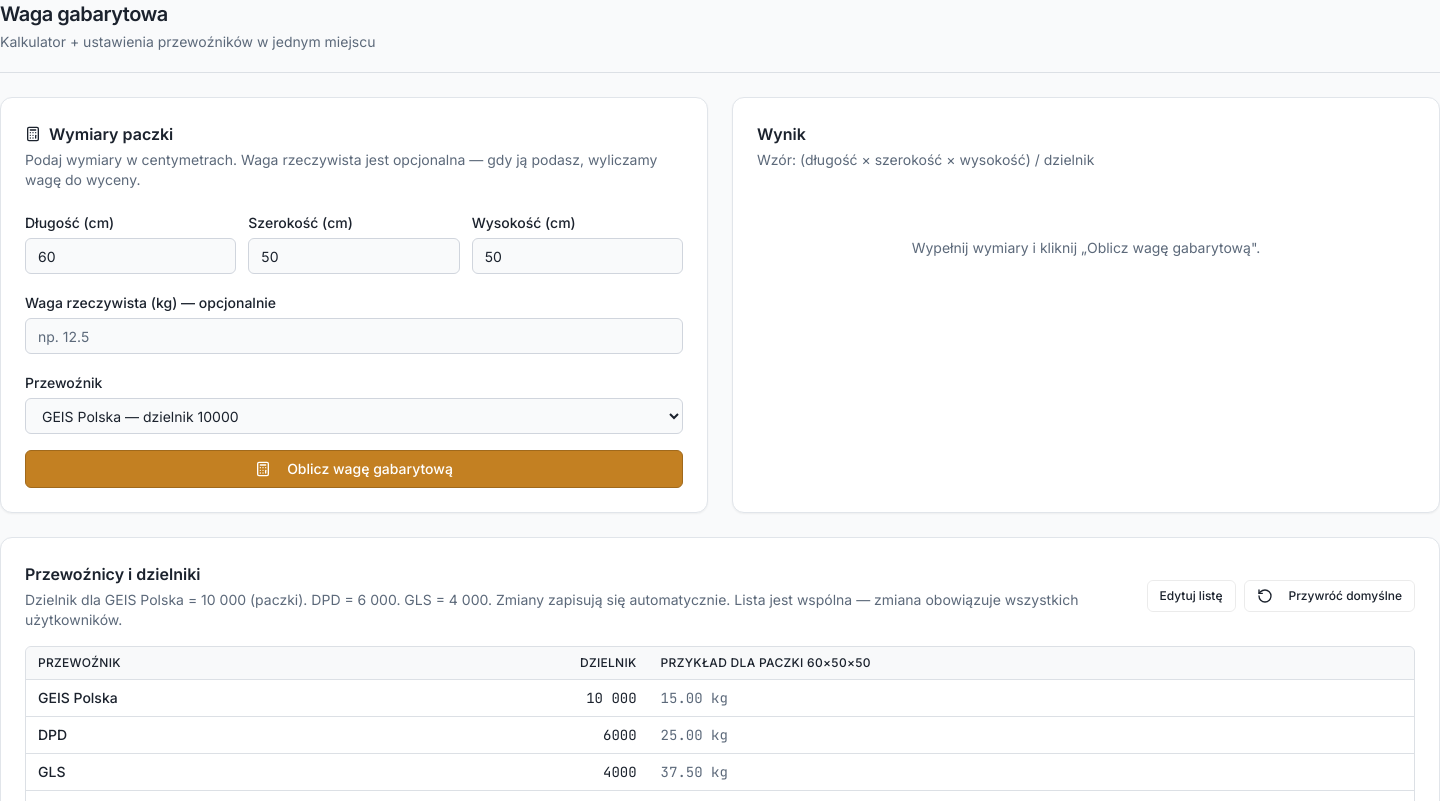
widok wagi gabarytowej — kalkulator wolumetryczny › niepoprawne wymiary dają komunikat zamiast wyniku
Expected: the button with test id "button-edycja-przewoznikow" is shown, top-left (1146, 580), bottom-right (1236, 612)
Replace the text in the number field with test id "input-dlugosc" with "0": [131, 256] box top-left (25, 238), bottom-right (236, 274)
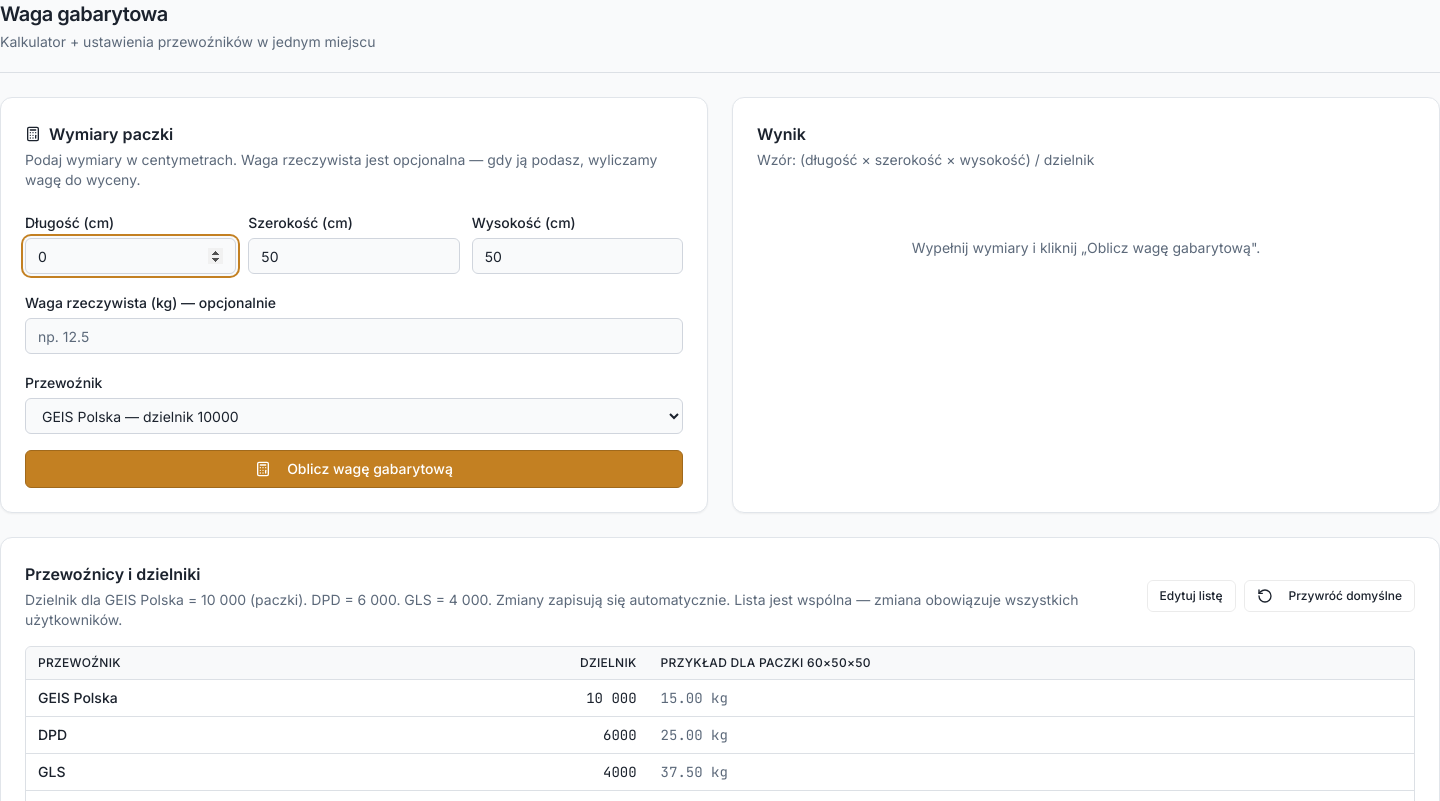
Click the button with test id "button-oblicz": [354, 469] box top-left (25, 450), bottom-right (683, 488)
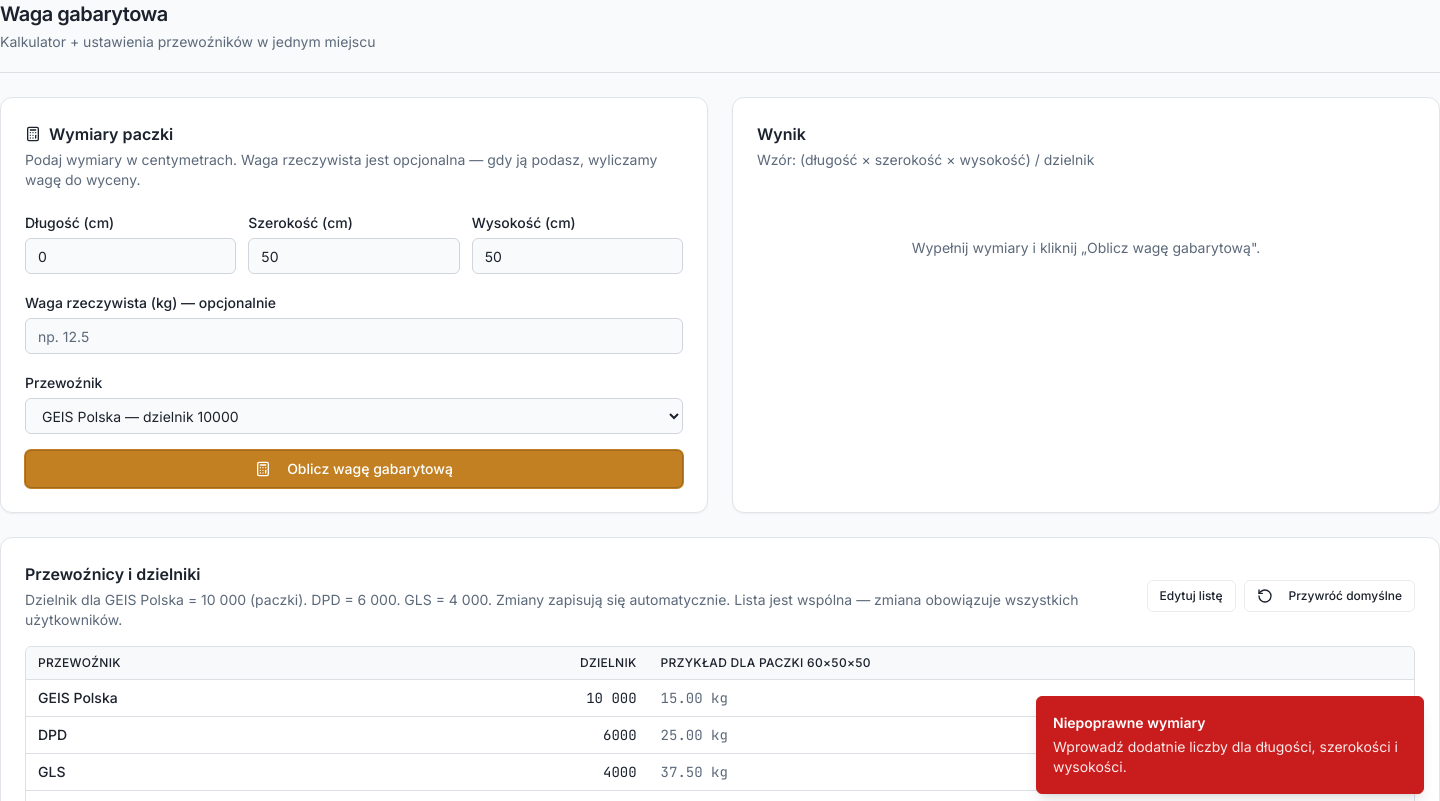
Now the text "Niepoprawne wymiary" is shown, box top-left (1053, 714), bottom-right (1206, 731)
